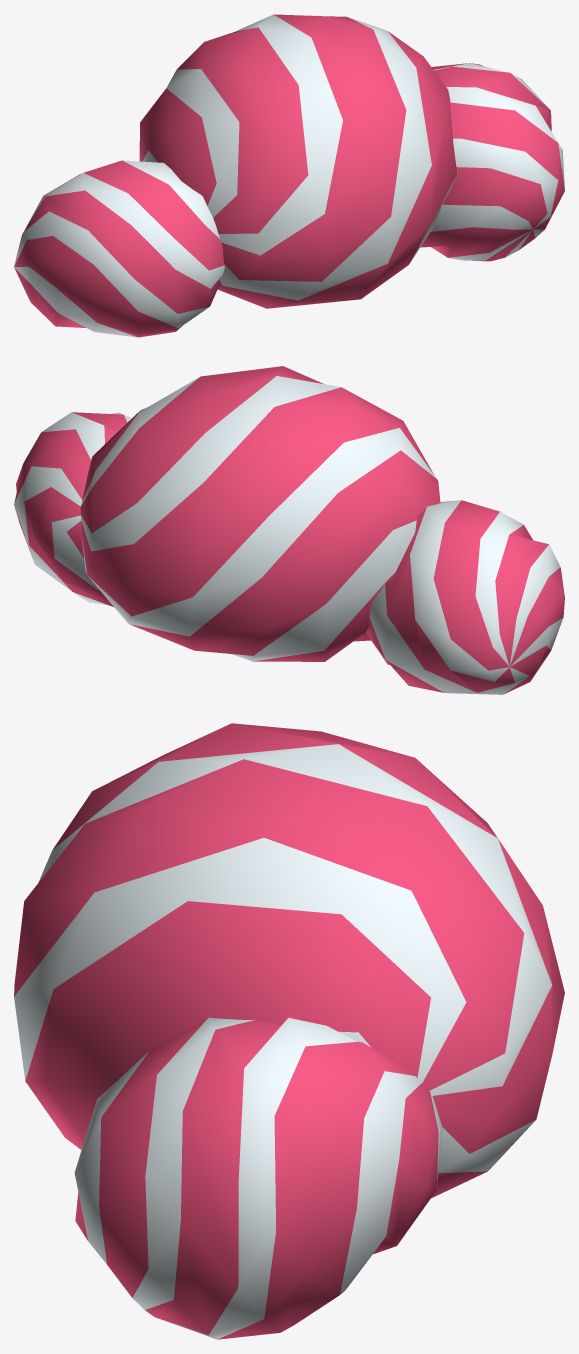
The model's file is candy_assets23.fbx.
3 renders of one model, top to bottom at view 1: azimuth 30°, elevation 25°; view 2: azimuth 150°, elevation 25°; view 3: azimuth 270°, elevation 25°, orthographic. The views are drawn at different scales.
Visible parts, largest first — view 1: candy_assets23; view 2: candy_assets23; view 3: candy_assets23.
Part boxes in pixels (x1,y1,x2,y2): candy_assets23: (14, 14, 564, 337); candy_assets23: (14, 366, 564, 694); candy_assets23: (14, 723, 564, 1339).
Size of the model in its own units: 906 by 427 by 490.
Materials: 1 (1 with a texture image).
